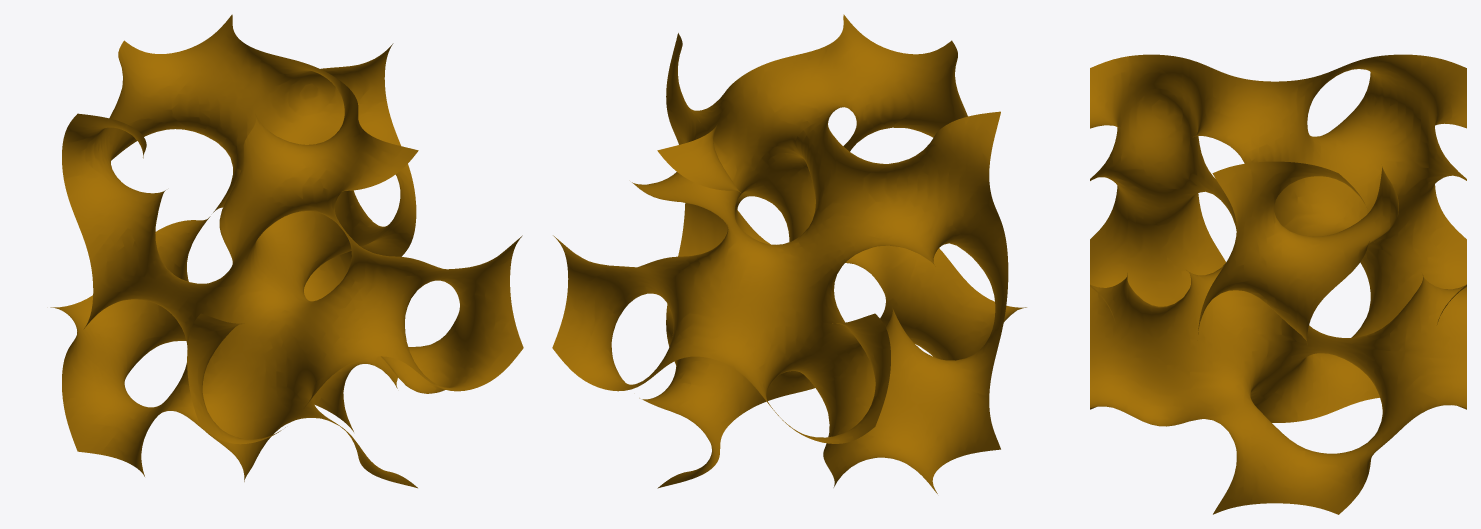
Rendered from unit_period1.glb.
3 views of the same model, side by side, from view 1: azimuth 30°, elevation 25°; view 2: azimuth 150°, elevation 25°; view 3: azimuth 270°, elevation 25° (orthographic).
Parts seen in each view (by area): view 1: world; view 2: world; view 3: world.
Boxes of the visible parts, left/top/right/bottom form: world: left=50, top=14, right=523, bottom=488; world: left=552, top=14, right=1026, bottom=493; world: left=1090, top=54, right=1466, bottom=514.
Bounding box in the file's own units: 49 × 49 × 49.
